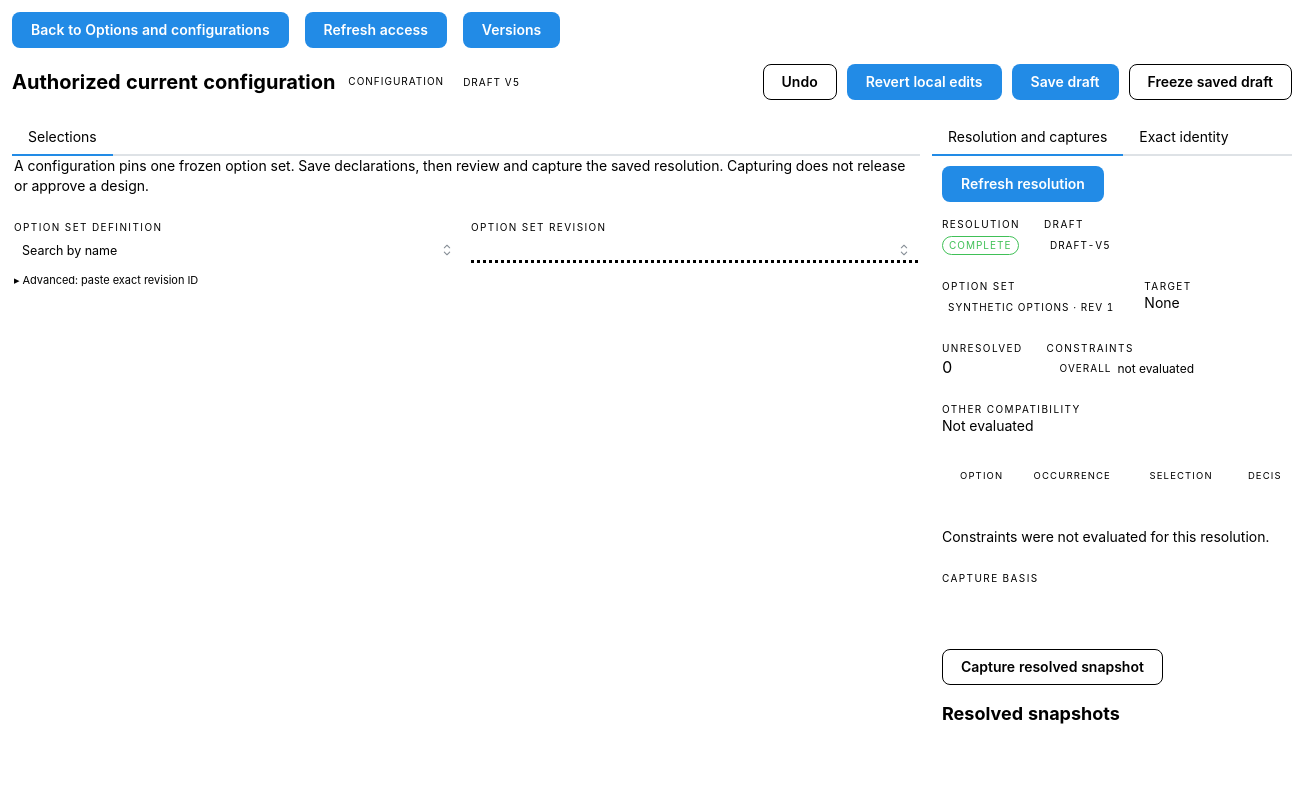
Test: denied retained capture history rechecks current authority once and leaves the resolution explicitly denied
Click the button "Refresh resolution" at (1023, 184), box [942, 166, 1104, 202]
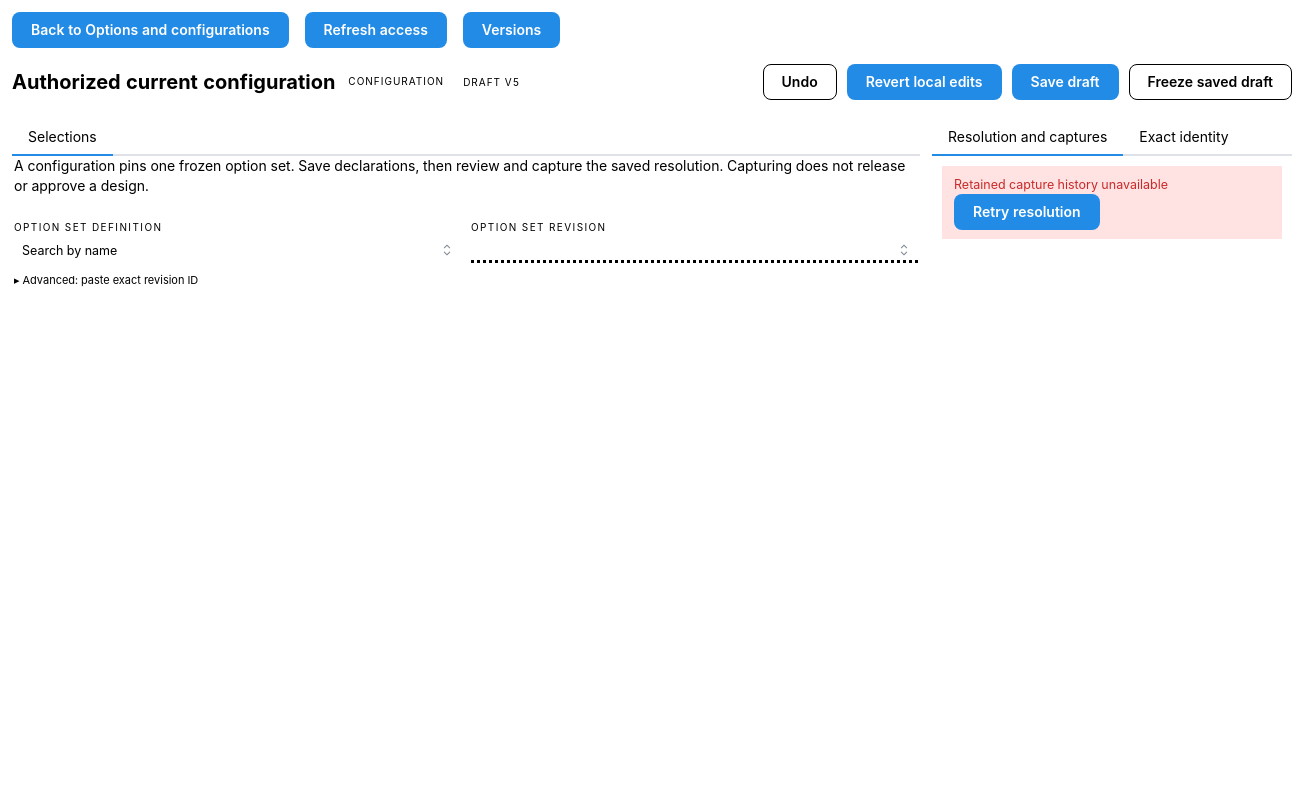
Expected: the text "Retained capture history unavailable" is shown, [954, 177, 1168, 192]
Expected: the label labelled "Capture basis" is gone
Expected: the button "Retry resolution" is shown, [954, 194, 1100, 230]
